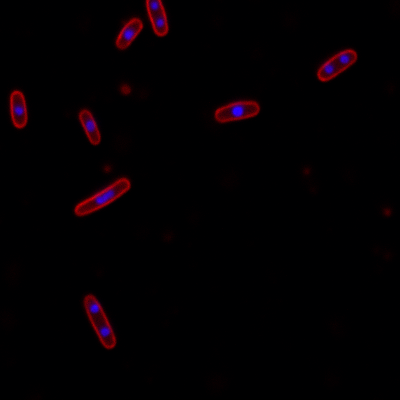CAM: (74, 178, 133, 216), (83, 292, 117, 351), (315, 48, 359, 83), (213, 100, 261, 122), (76, 108, 102, 146), (115, 17, 143, 50), (8, 89, 29, 128)
Vesicle: (117, 83, 132, 98), (300, 163, 313, 176), (381, 205, 392, 217), (100, 164, 111, 173)
